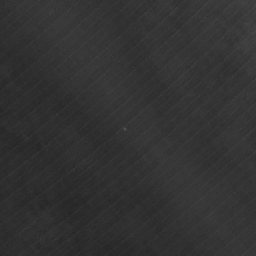Target: (120, 125, 127, 130)
